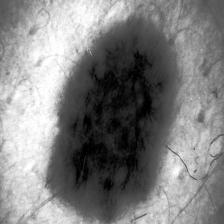Benign Marking or Mole: (55, 27, 170, 220)
